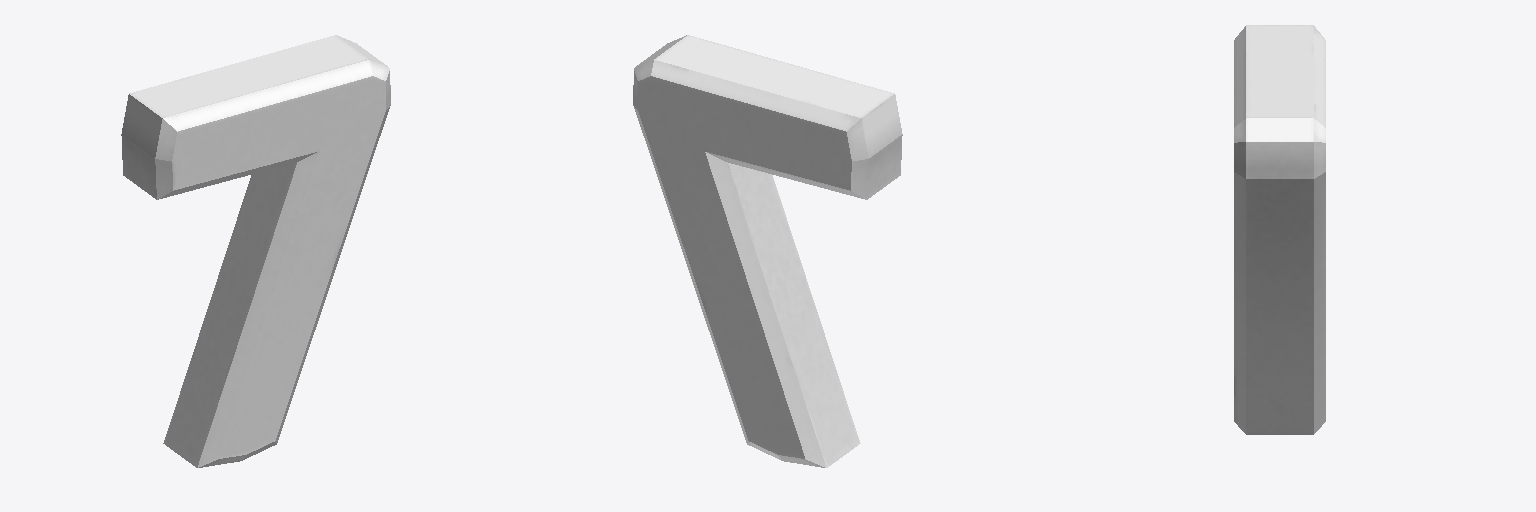
3 views of the same model, side by side, from view 1: azimuth 30°, elevation 25°; view 2: azimuth 150°, elevation 25°; view 3: azimuth 270°, elevation 25° (orthographic).
Parts seen in each view (by area): view 1: Number_7; view 2: Number_7; view 3: Number_7.
Boxes of the visible parts, box(x1,y1,x2,y2) form: Number_7: box(121, 35, 390, 467); Number_7: box(633, 35, 902, 467); Number_7: box(1234, 25, 1325, 434).
Size of the model in its own units: 17.4 by 26.16 by 5.91.
Materials: 1 (1 with a texture image).